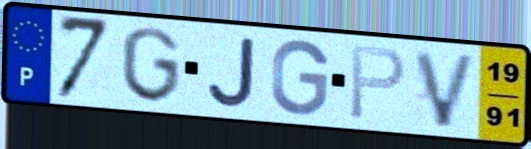7: (53, 12, 114, 102)
G: (268, 37, 332, 119), (119, 25, 183, 106)
J: (204, 34, 259, 111)
P: (346, 43, 408, 122)
V: (411, 48, 481, 131)
